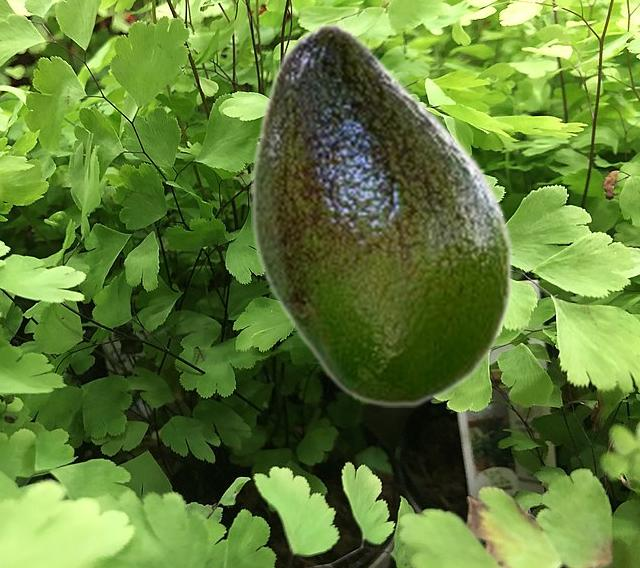avocado: (251, 22, 513, 406)
